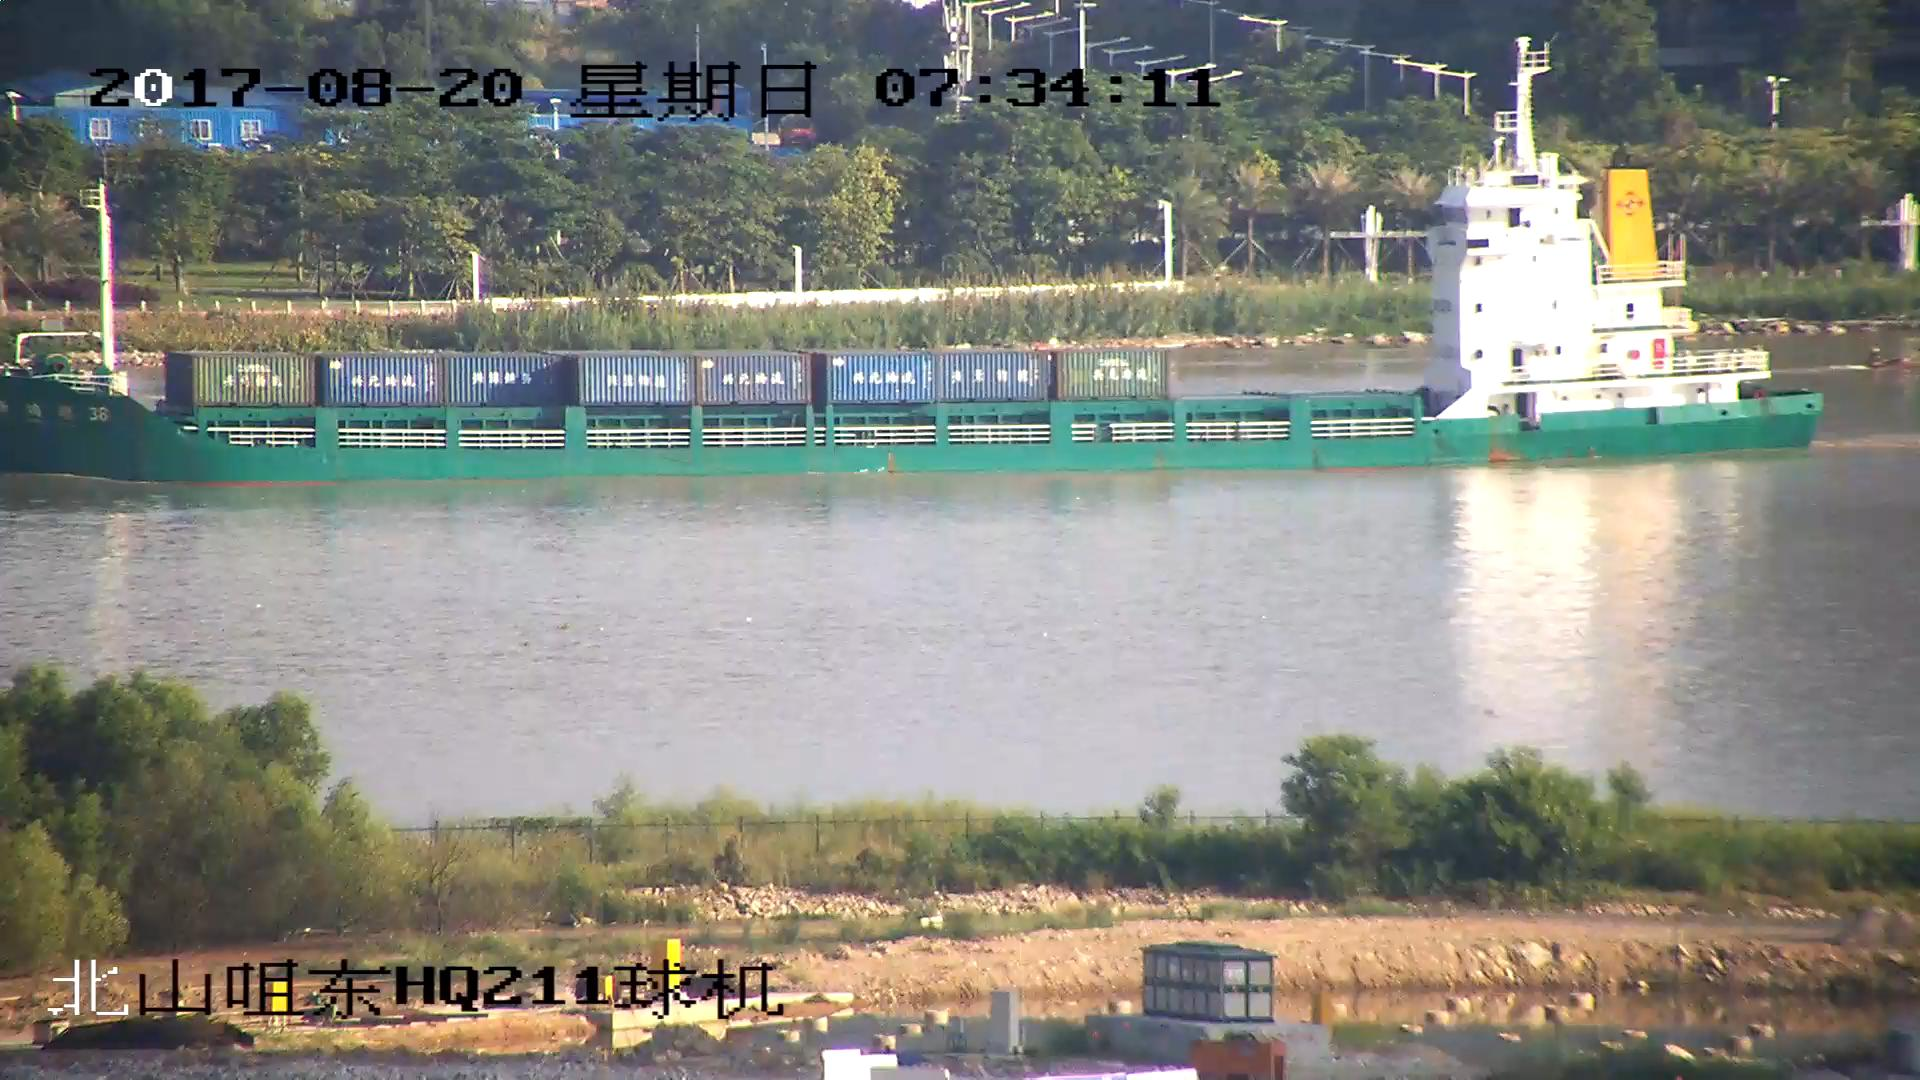general cargo ship: (1, 120, 1824, 486)
